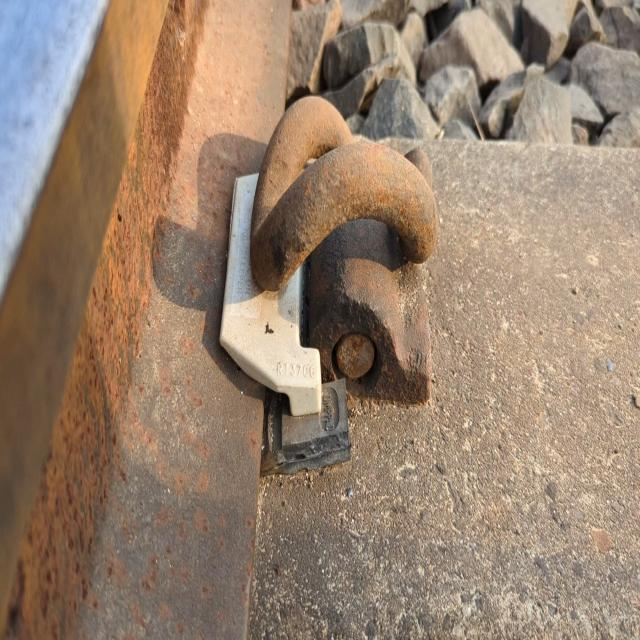underrailed: (227, 74, 507, 472)
